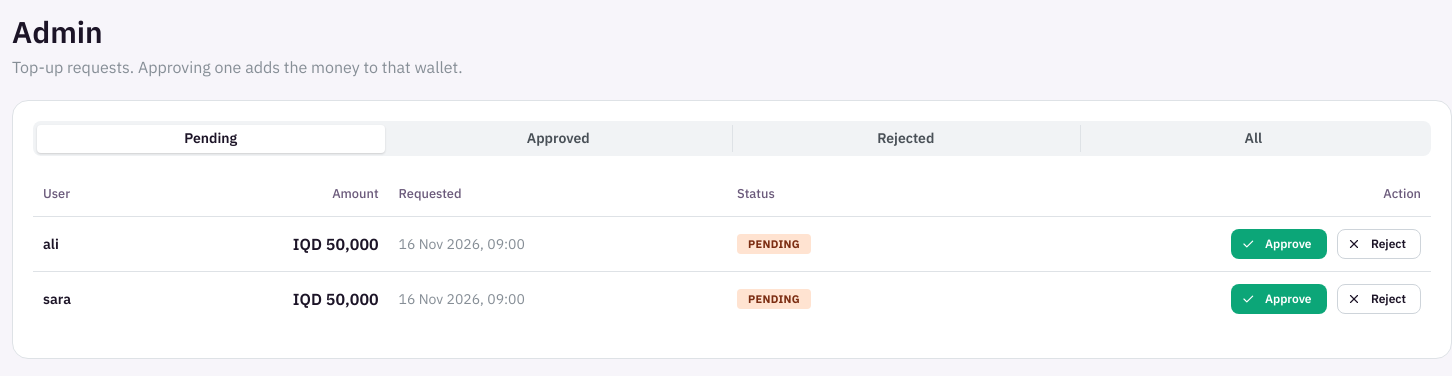
Test: AdminPage › approves a request, and takes it off the pending list
Click the button with aria-label "Approve ali's top-up".
click(1278, 244)  # box [1230, 229, 1326, 259]
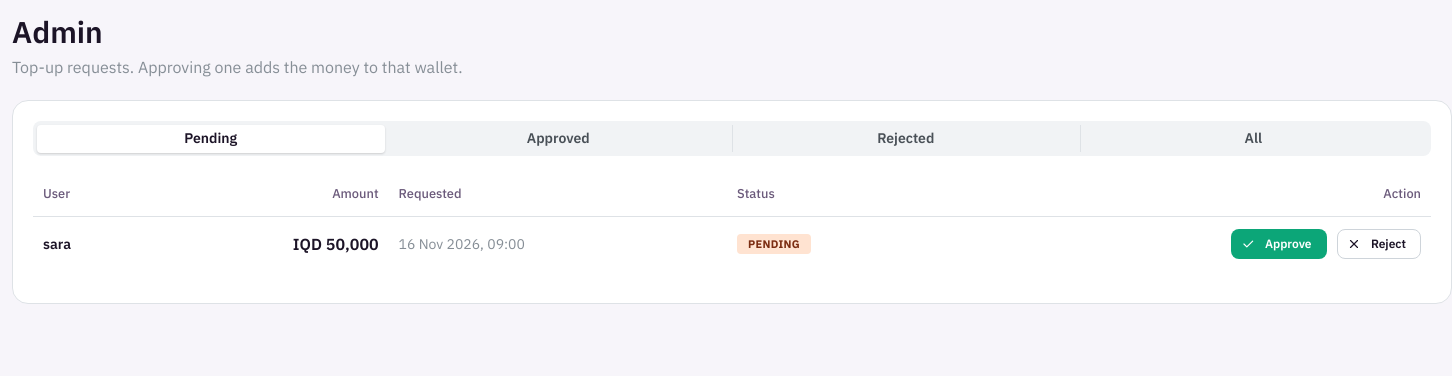
Expected: the text "sara" is shown, [43, 235, 71, 253]
Result: the text "ali" is gone
